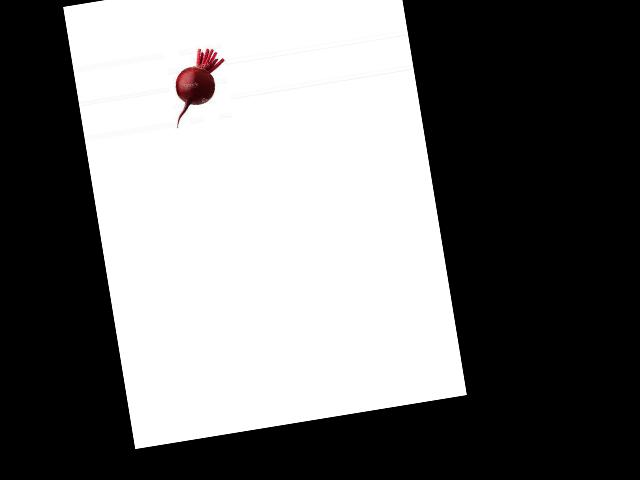beet: (165, 45, 234, 126)
